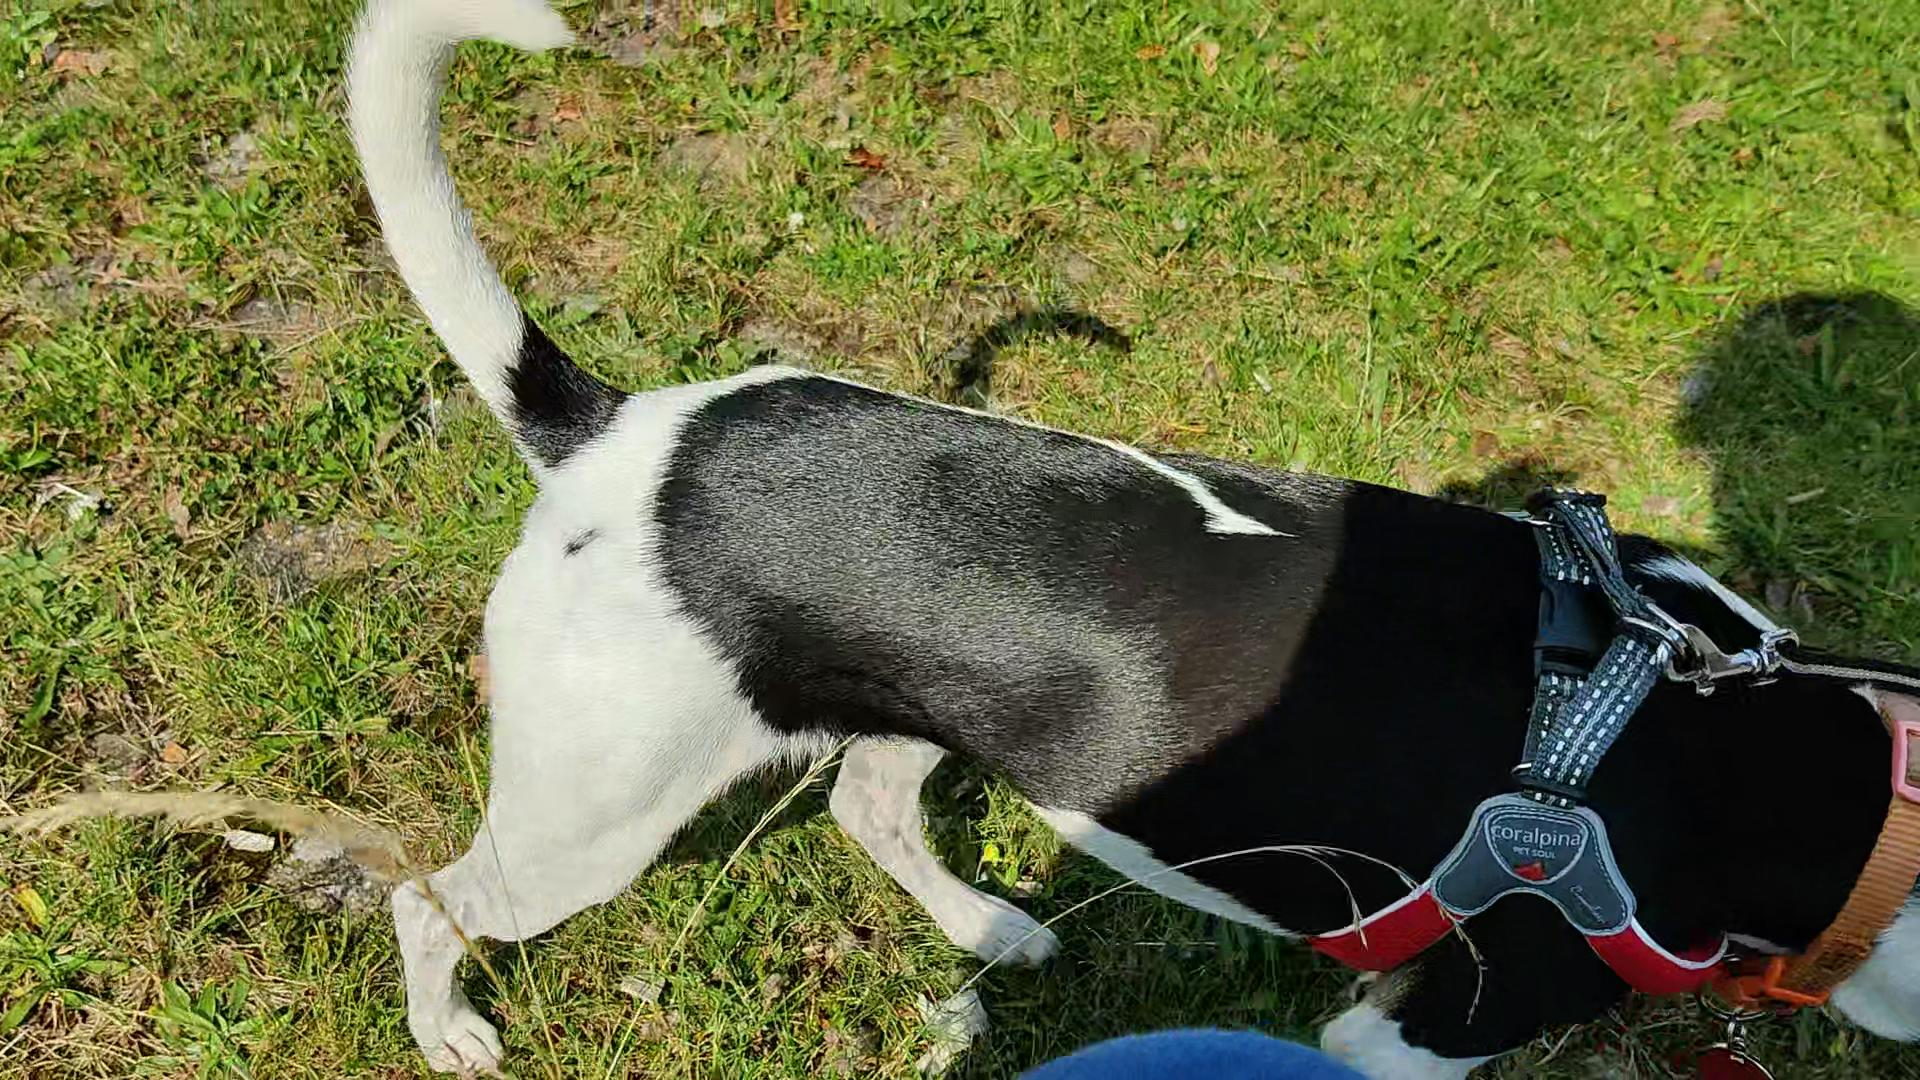Dog: (320, 0, 1919, 1080)
